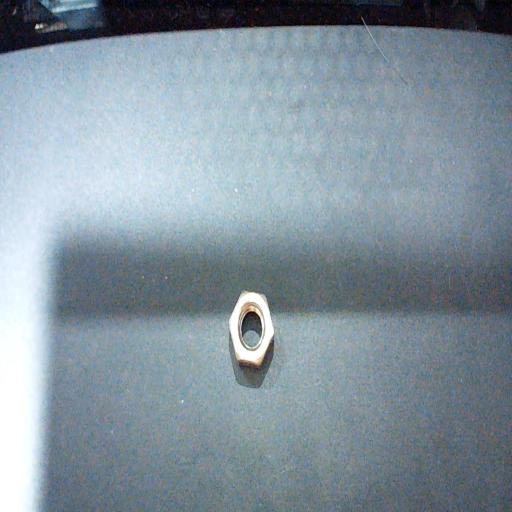nut: (228, 289, 274, 371)
